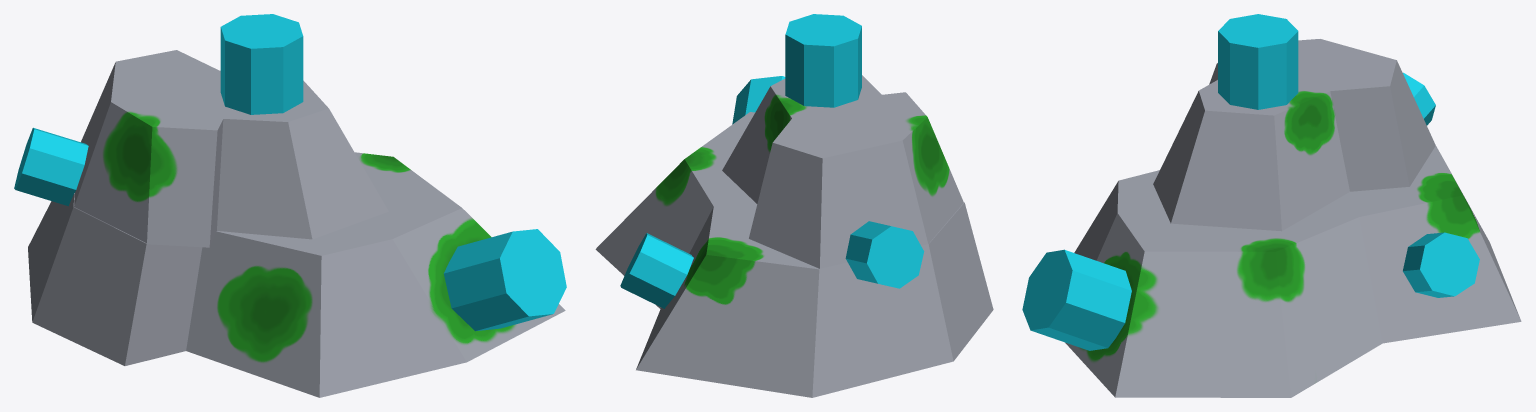
File: DiamanteMusgo1.fbx
3 renders of one model, left to right at view 1: azimuth 30°, elevation 25°; view 2: azimuth 150°, elevation 25°; view 3: azimuth 270°, elevation 25°, orthographic. The views are drawn at different scales.
Visible parts, largest first — view 1: base.034, Cylinder.025, diamante.011, Cylinder.023; view 2: base.034, diamante.011, Cylinder.023, Cylinder.024, Cylinder.025; view 3: base.034, Cylinder.025, diamante.011, Cylinder.024, Cylinder.023.
Part boxes in pixels (bbox=[...]): base.034: bbox=[28, 50, 565, 397]; Cylinder.025: bbox=[443, 229, 566, 331]; diamante.011: bbox=[220, 14, 303, 114]; Cylinder.023: bbox=[14, 127, 88, 206]; base.034: bbox=[595, 75, 993, 397]; diamante.011: bbox=[785, 14, 861, 107]; Cylinder.023: bbox=[845, 221, 924, 288]; Cylinder.024: bbox=[620, 233, 693, 308]; Cylinder.025: bbox=[732, 76, 785, 124]; base.034: bbox=[1065, 39, 1521, 397]; Cylinder.025: bbox=[1022, 249, 1131, 350]; diamante.011: bbox=[1218, 14, 1298, 109]; Cylinder.024: bbox=[1403, 232, 1479, 297]; Cylinder.023: bbox=[1403, 72, 1435, 125].
Bounding box in the file's own units: 133 × 85.5 × 148.
